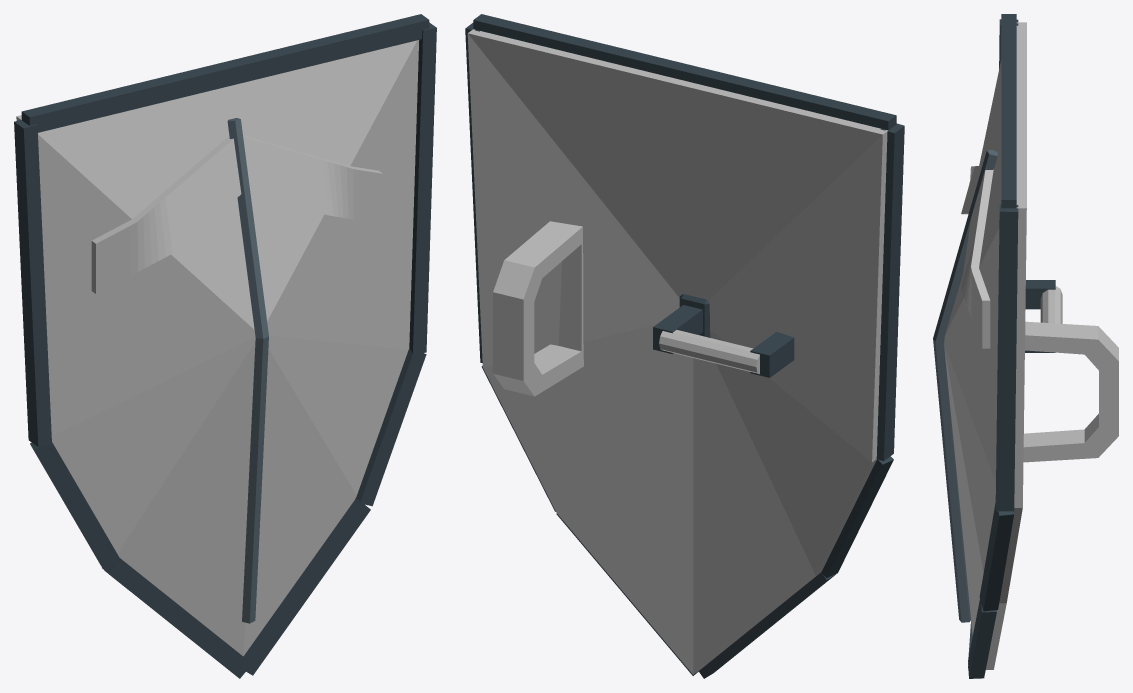
Rendered from shield.glb.
3 renders of one model, left to right at view 1: azimuth 30°, elevation 25°; view 2: azimuth 150°, elevation 25°; view 3: azimuth 270°, elevation 25°, orthographic. The views are drawn at different scales.
Visible parts, largest first — view 1: gth_equi_heater_shield; view 2: gth_equi_heater_shield; view 3: gth_equi_heater_shield.
Boxes of the visible parts, x1,y1,x2,y2 form: gth_equi_heater_shield: (14,14,436,678); gth_equi_heater_shield: (465,14,904,678); gth_equi_heater_shield: (933,14,1118,678).
Size of the model in its own units: 0.662 by 0.9131 by 0.2705.
